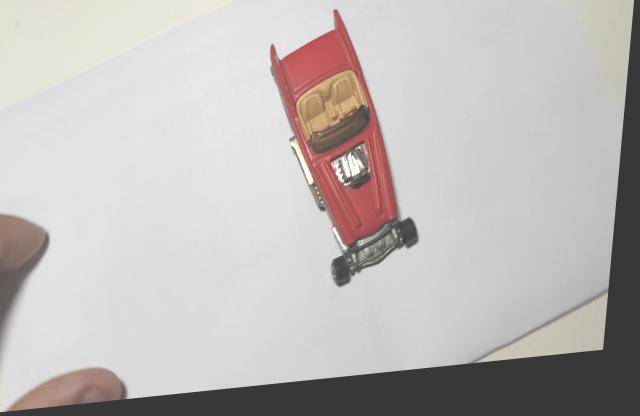03_V8: (269, 18, 425, 295)
